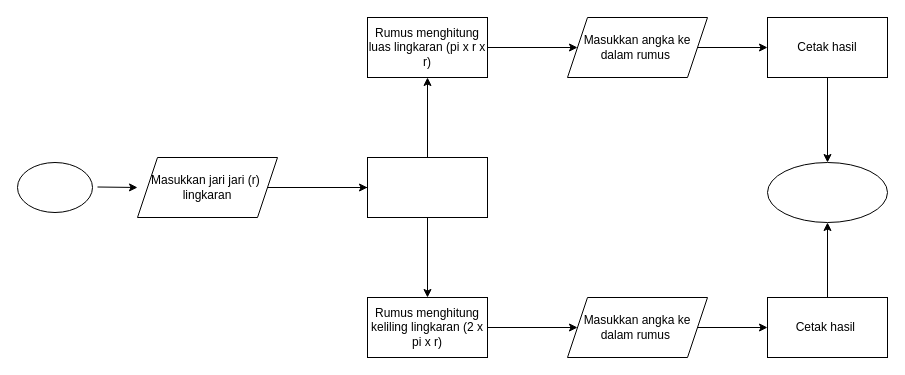
Image size: 905x375. Some labels were removed from this diagram. The centre of each missing label's shape, as x and y in pixels:
End: the point at 827,192
Pi adalah 22/7 atau 3.14: the point at 427,187
Start: the point at 54,187
